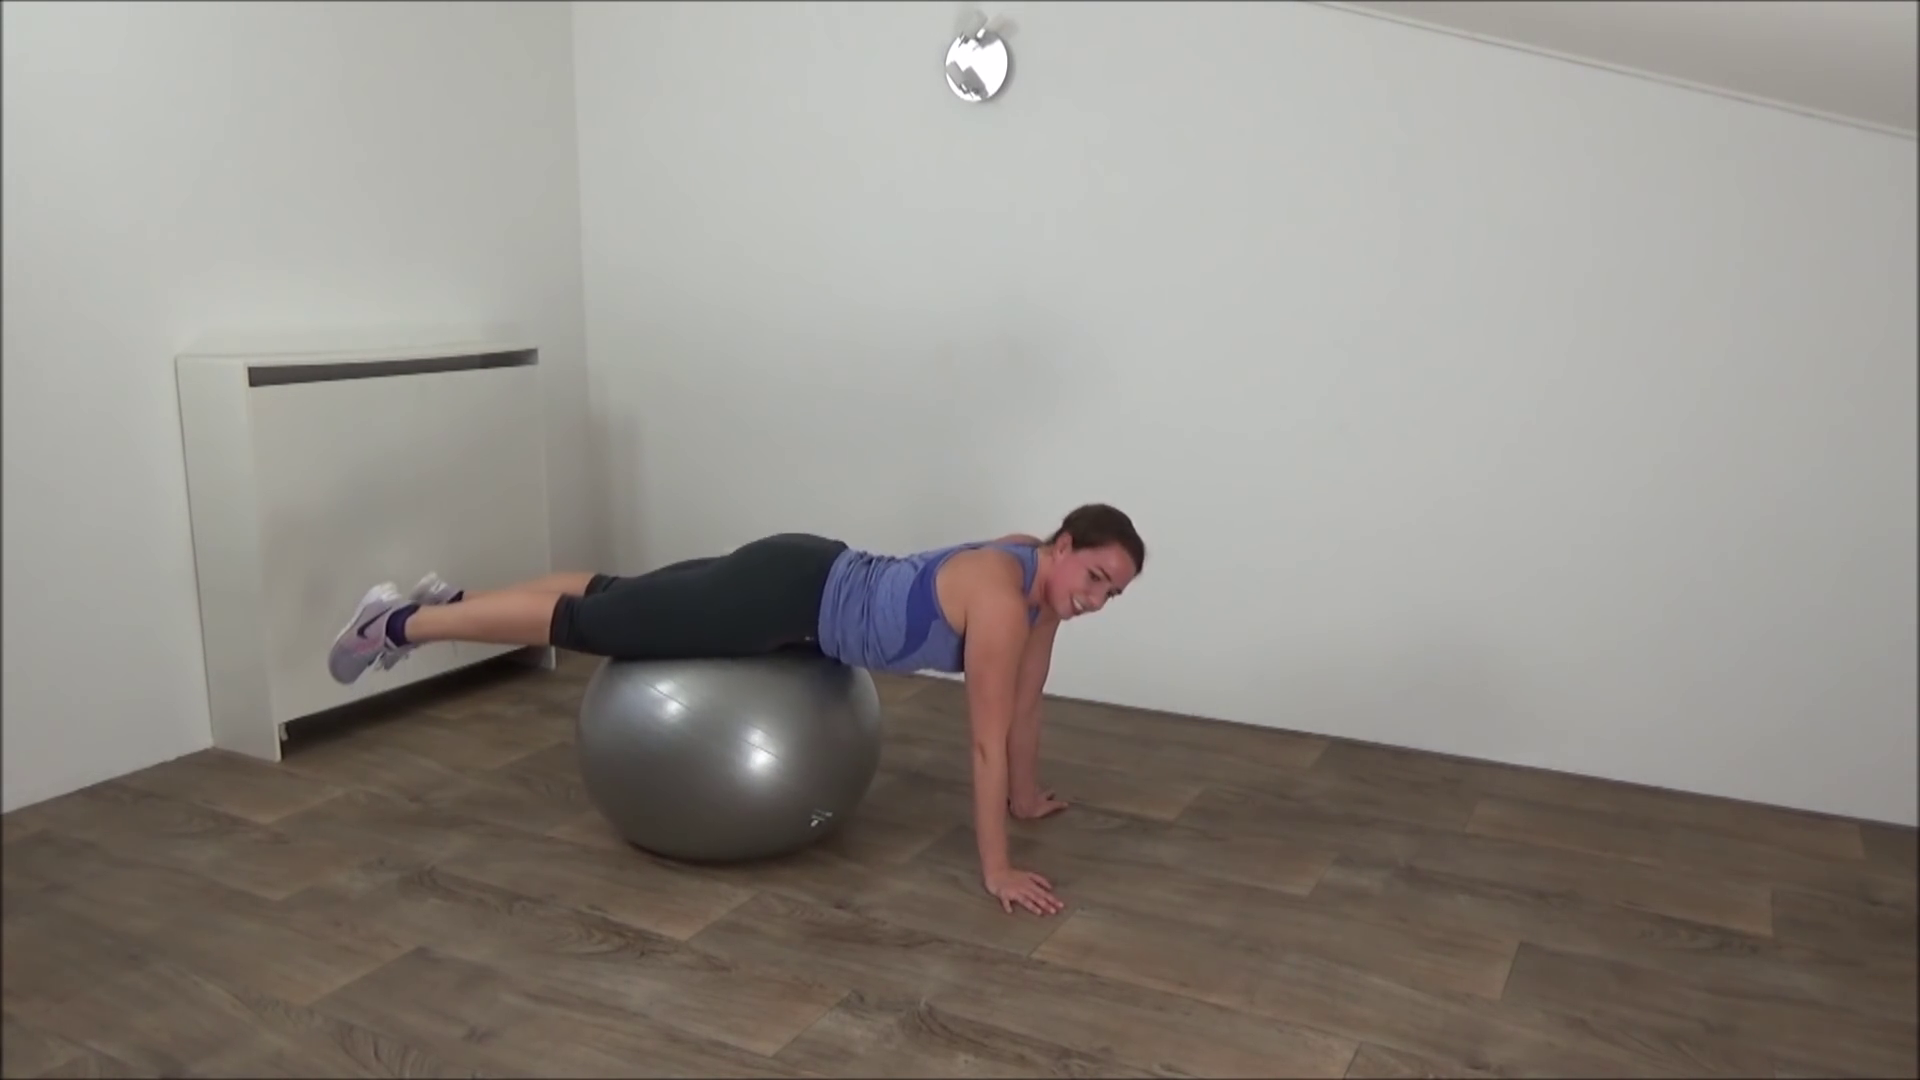yogaball: (560, 641, 906, 873)
